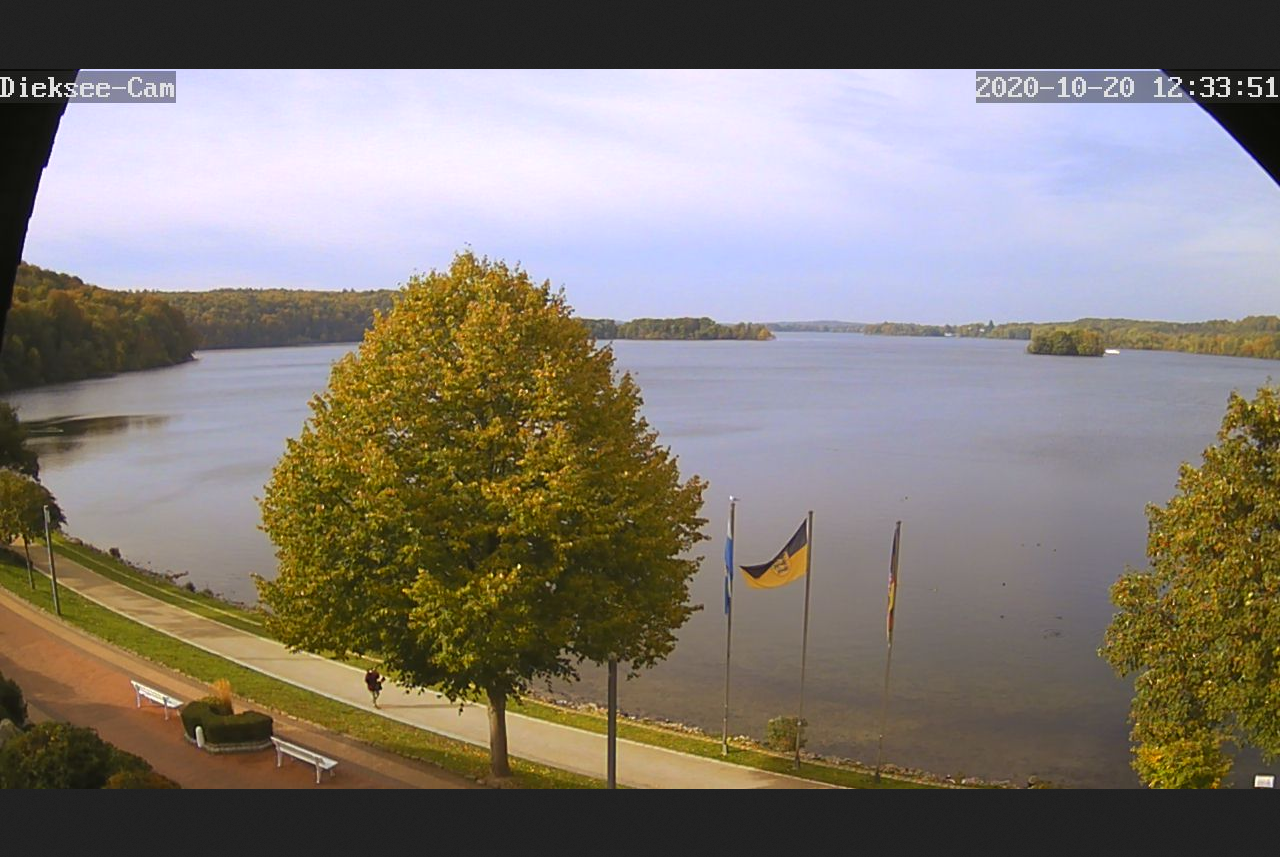maybe: (742, 510, 811, 593)
no: (885, 523, 898, 650), (721, 510, 736, 620)
